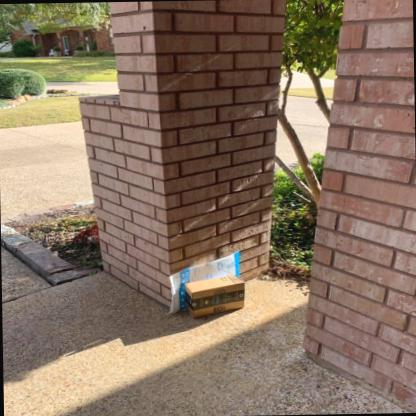box: (185, 273, 245, 319)
plastic_bag: (163, 253, 242, 316)
